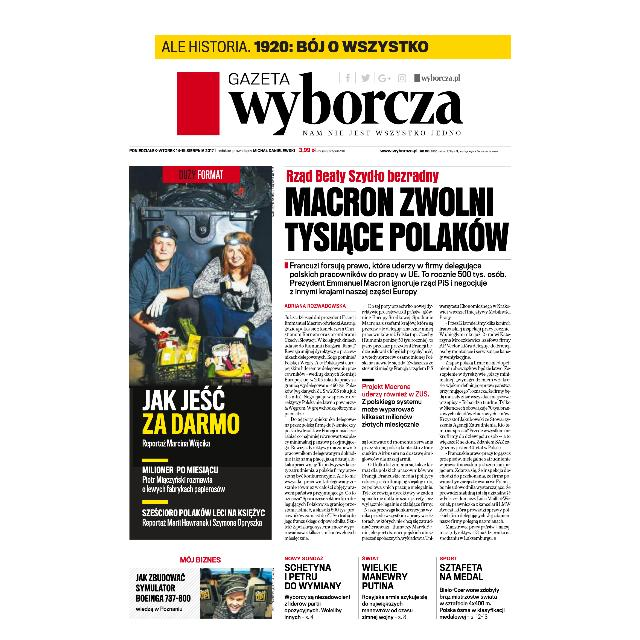article: (280, 164, 522, 546)
